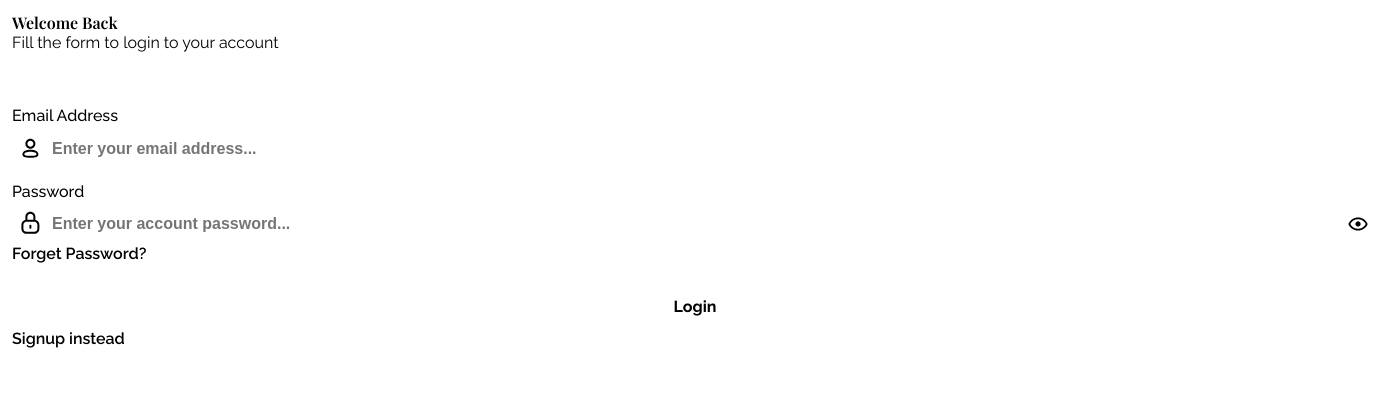
Test: Test Component : Loginform › if email and password is ok show successful message if not show error
This screenshot has width=1390, height=411.
Type "123" into the password field with test id "loginformPasswordInput" at (695, 224), box [12,207,1378,241]
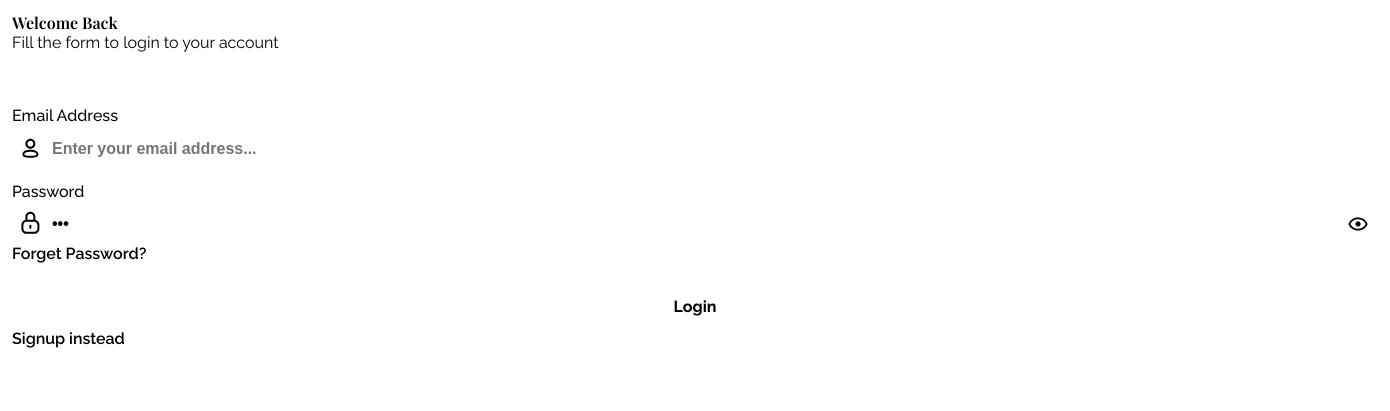
Type "sdwqd@gmail.com" into the field with test id "loginformEmailInput" at (695, 149), box [12,132,1378,166]
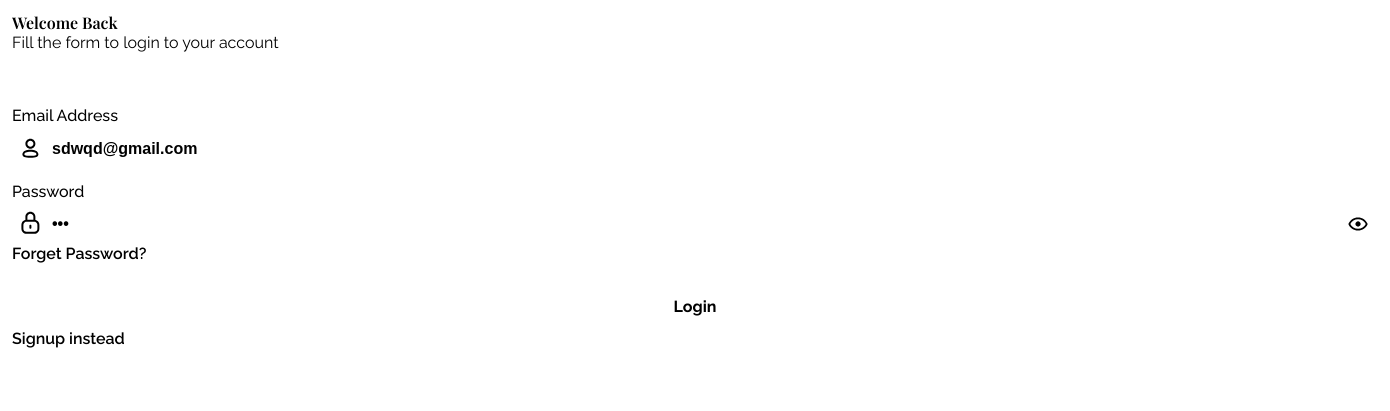
Click the button with test id "loginformLoginButton" at (695, 306), box [12,290,1378,322]
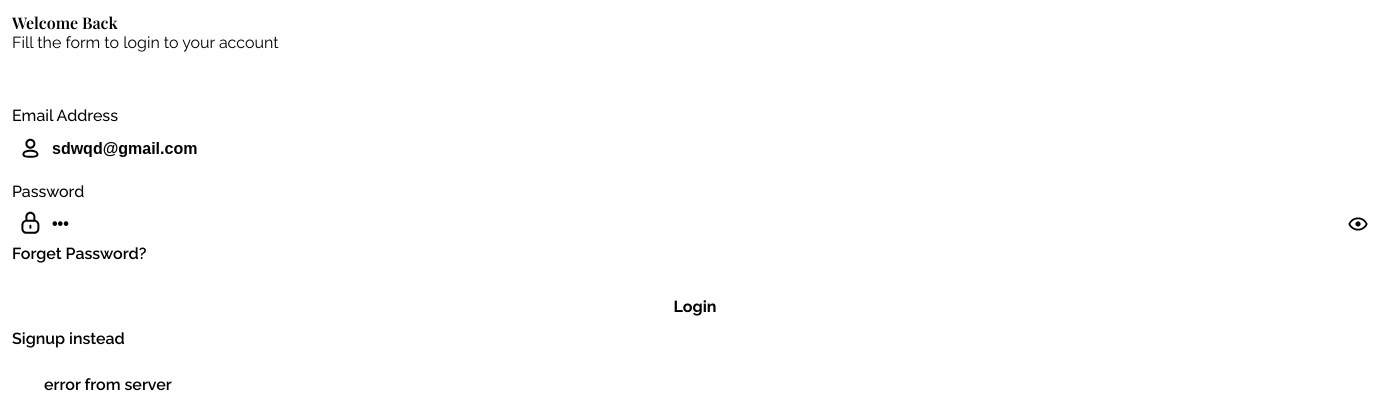
Expected: the element with test id "errorMessage" reads "error from server", [44,375,172,394]
Click the button with test id "loginformLoginButton" at (695, 306), box [12,290,1378,322]
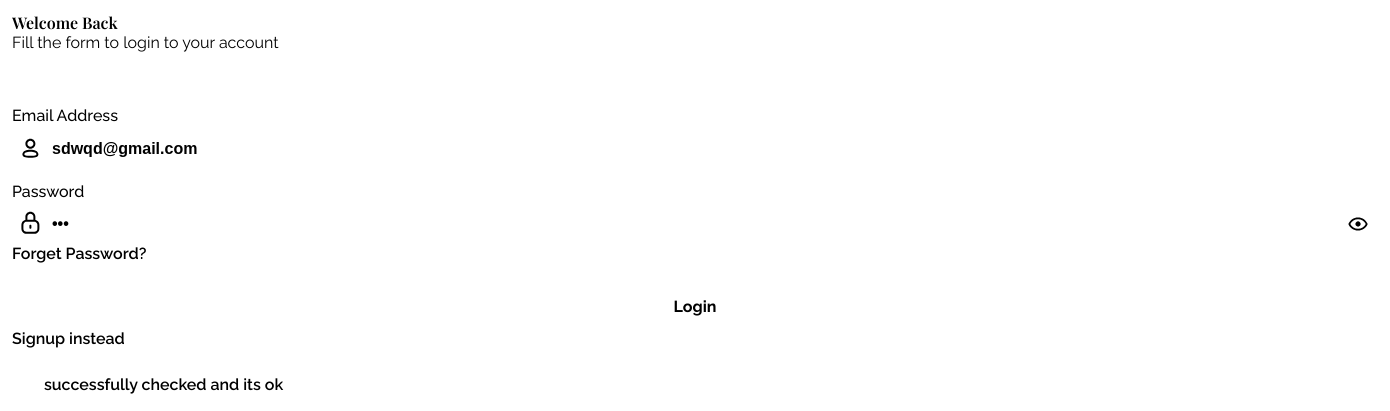
Expected: the element with test id "successMessage" reads "successfully checked and its ok", [44,375,283,394]
